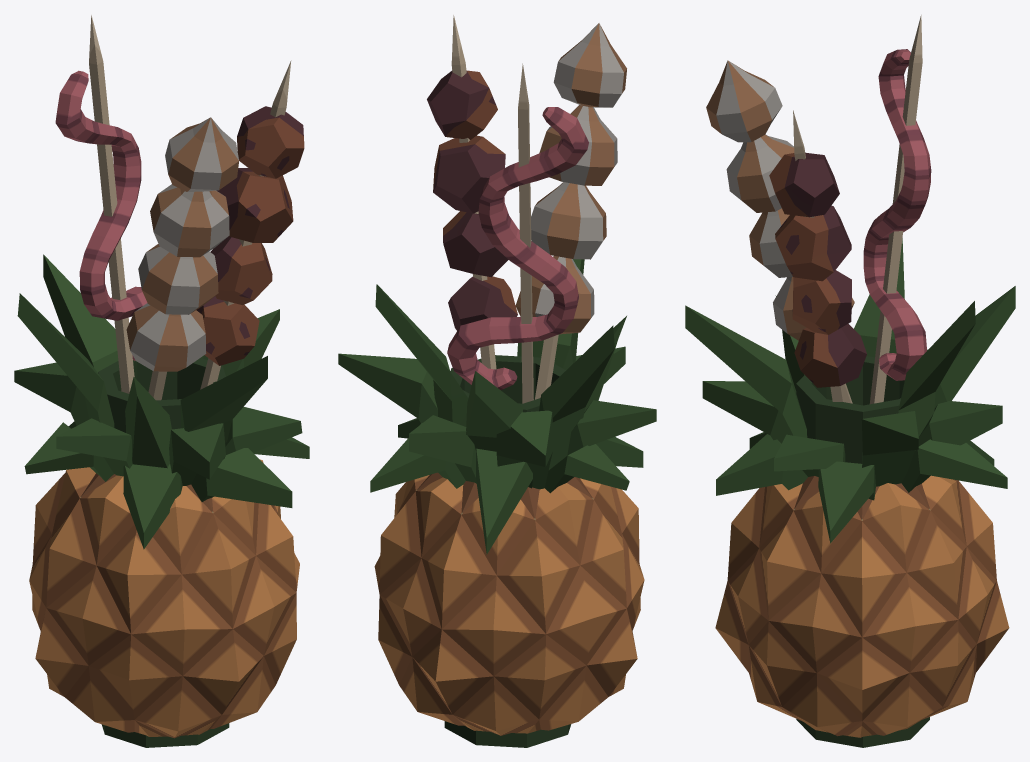
The model's file is SM_Prop_Food_Sticks_Holder_01.fbx.
3 views of the same model, side by side, from view 1: azimuth 30°, elevation 25°; view 2: azimuth 150°, elevation 25°; view 3: azimuth 270°, elevation 25° (orthographic).
Parts seen in each view (by area): view 1: SM_Prop_Food_Sticks_Holder_01; view 2: SM_Prop_Food_Sticks_Holder_01; view 3: SM_Prop_Food_Sticks_Holder_01.
Part boxes in pixels (box(x1,y1,x2,y2)): SM_Prop_Food_Sticks_Holder_01: box(14, 15, 309, 747); SM_Prop_Food_Sticks_Holder_01: box(338, 15, 656, 747); SM_Prop_Food_Sticks_Holder_01: box(685, 15, 1015, 747).
Bounding box in the file's own units: 34.88 × 84.32 × 36.88.
